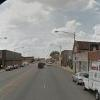Car: (64, 64, 87, 87)
